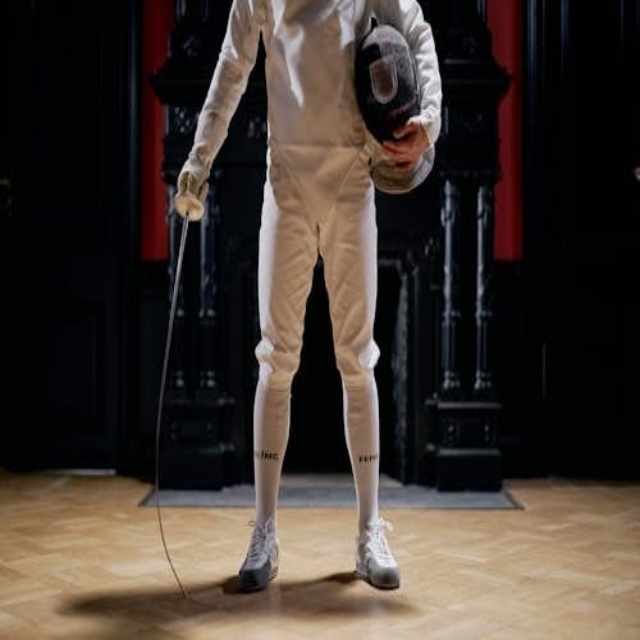Guantes: (169, 138, 212, 225)
Sin_guantes: (374, 106, 431, 183)
